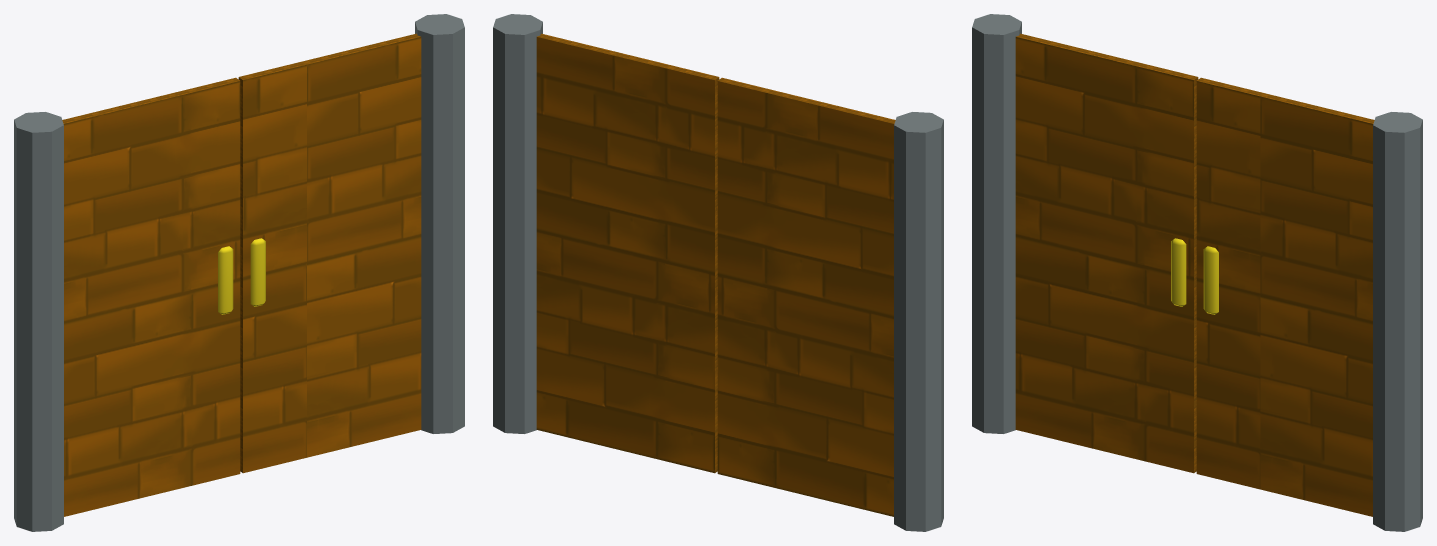
The model's file is door.fbx.
3 renders of one model, left to right at view 1: azimuth 30°, elevation 25°; view 2: azimuth 150°, elevation 25°; view 3: azimuth 330°, elevation 25°, orthographic.
Visible parts, largest first — view 1: door, door_1; view 2: door, door_1; view 3: door, door_1.
Part boxes in pixels (<box>): door: <box>62,33,421,516</box>; door_1: <box>14,14,464,531</box>; door: <box>536,33,895,516</box>; door_1: <box>493,14,943,531</box>; door: <box>1015,33,1374,516</box>; door_1: <box>972,14,1422,531</box>.
Bounding box in the file's own units: 23.55 × 20.16 × 2.36.
